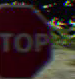Stop: (0, 2, 61, 78)
